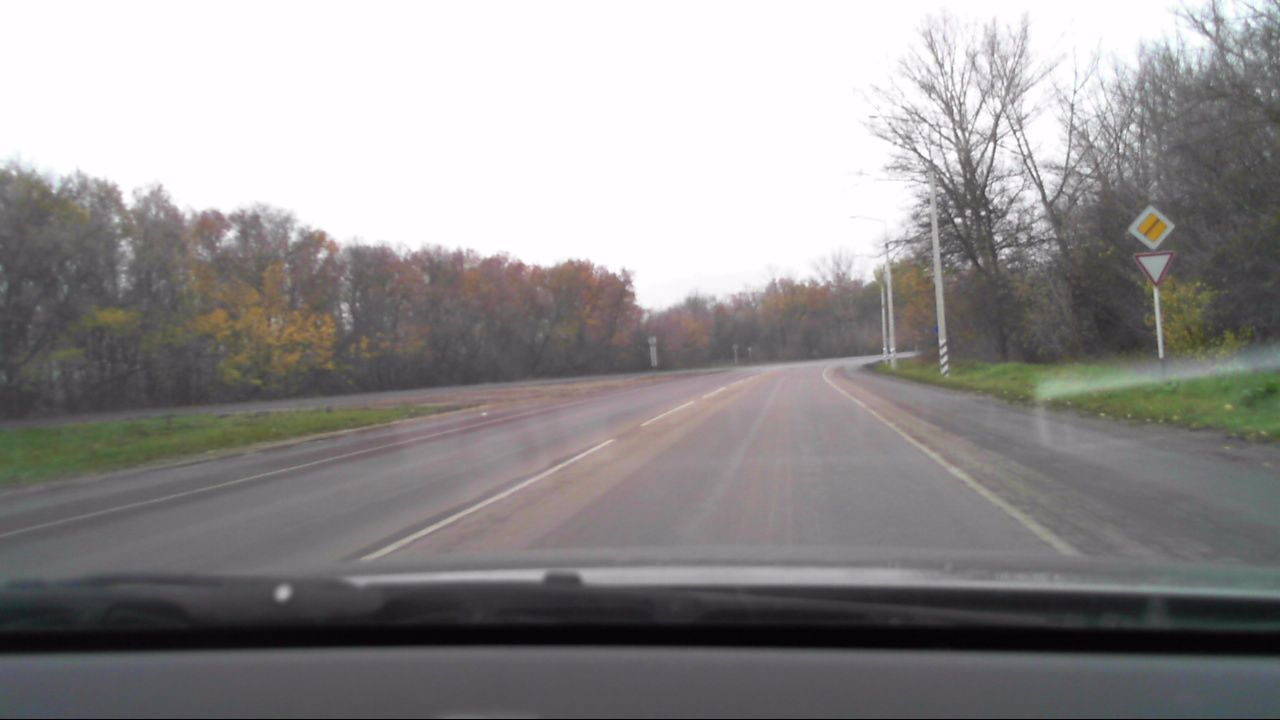main road: (1127, 204, 1176, 249)
